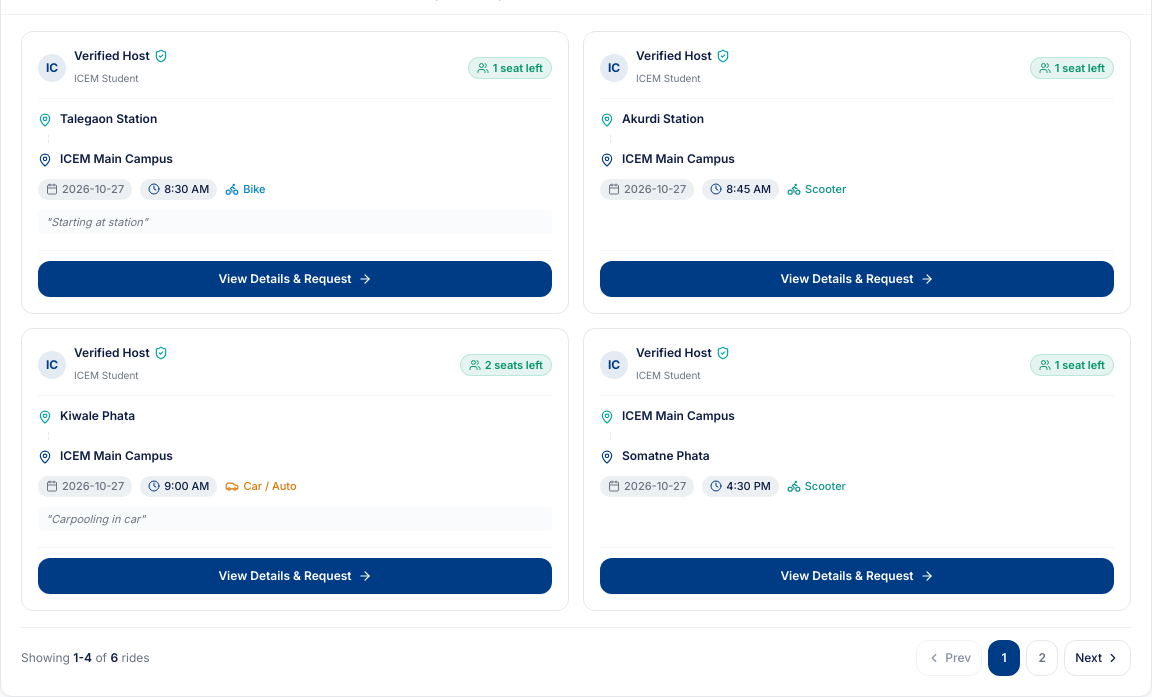
Test: AvailableCampusRides Component › paginates rides strictly at 4 rides per page with <- 1 2 -> controls
(page scrolled)
Expected: the text "Talegaon Station" is shown, [60,111,157,126]
Expected: the text "Akurdi Station" is shown, [622,111,704,126]
// Click Page 2
Click the button named "Page 2".
click(1042, 658)  # box [1026,640,1058,676]
(page scrolled)
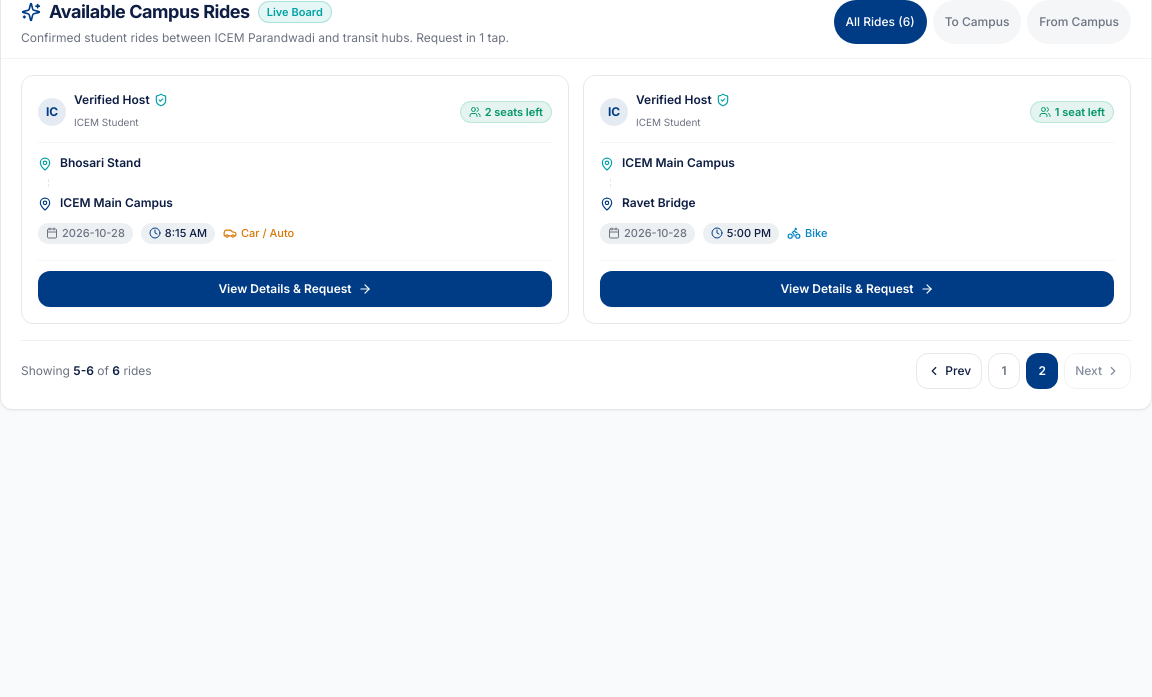
Now the text "Bhosari Stand" is shown, box [60,155,141,170]
Now the text "Ravet Bridge" is shown, box [622,195,696,210]
Now the text "Talegaon Station" is gone
